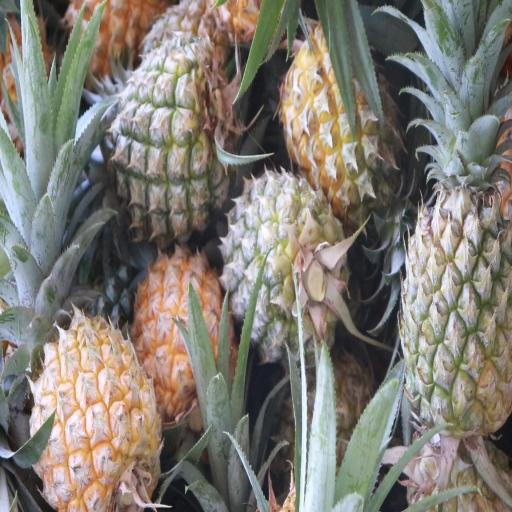------------------------------: (285, 28, 407, 216), (109, 53, 235, 229), (227, 173, 348, 352)
Pineapple - v8 v1: (32, 322, 167, 510), (134, 250, 232, 412)
